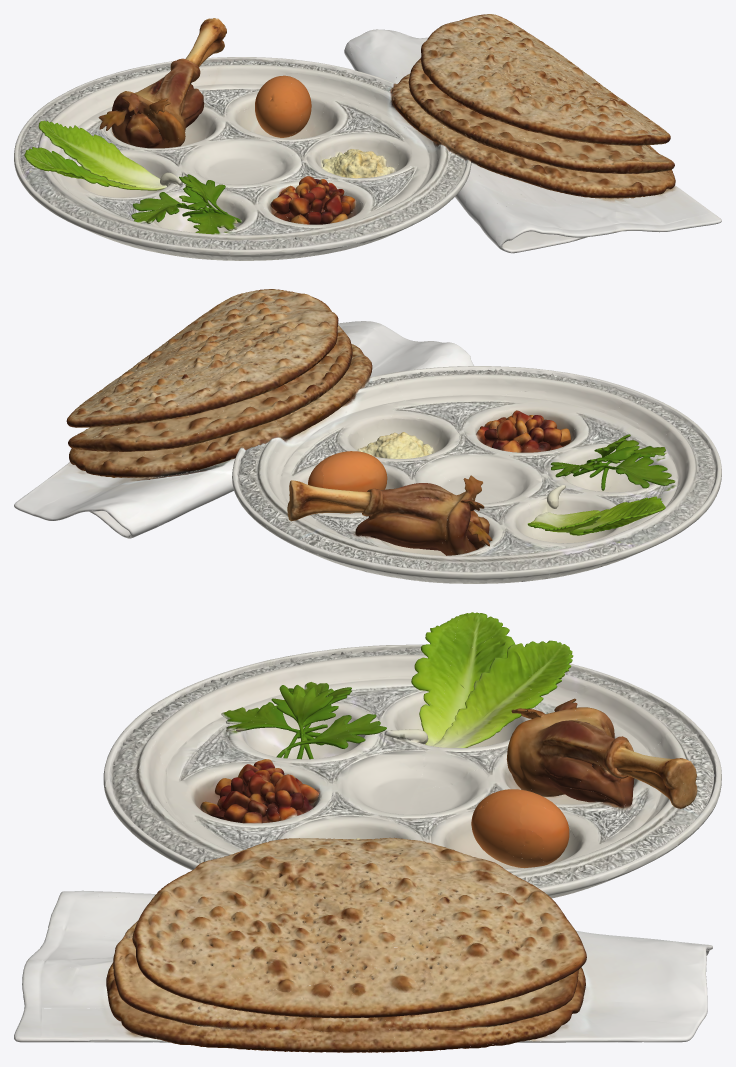
The model's file is seder-plate.glb.
The picture shows the model from 3 angles, top to bottom: view 1: azimuth 30°, elevation 25°; view 2: azimuth 150°, elevation 25°; view 3: azimuth 270°, elevation 25°; orthographic projection. The views are drawn at different scales.
Parts seen in each view (by area): view 1: tripo_node_3472e385-85c6-4a09-9a5f-86d235754e8c; view 2: tripo_node_3472e385-85c6-4a09-9a5f-86d235754e8c; view 3: tripo_node_3472e385-85c6-4a09-9a5f-86d235754e8c.
Part boxes in pixels (x1,y1,x2,y2): tripo_node_3472e385-85c6-4a09-9a5f-86d235754e8c: (14, 14, 721, 260); tripo_node_3472e385-85c6-4a09-9a5f-86d235754e8c: (14, 289, 721, 583); tripo_node_3472e385-85c6-4a09-9a5f-86d235754e8c: (14, 612, 721, 1052).
Bounding box in the file's own units: 0.979 × 0.1478 × 0.8208.
Materials: 1 (1 with a texture image).
